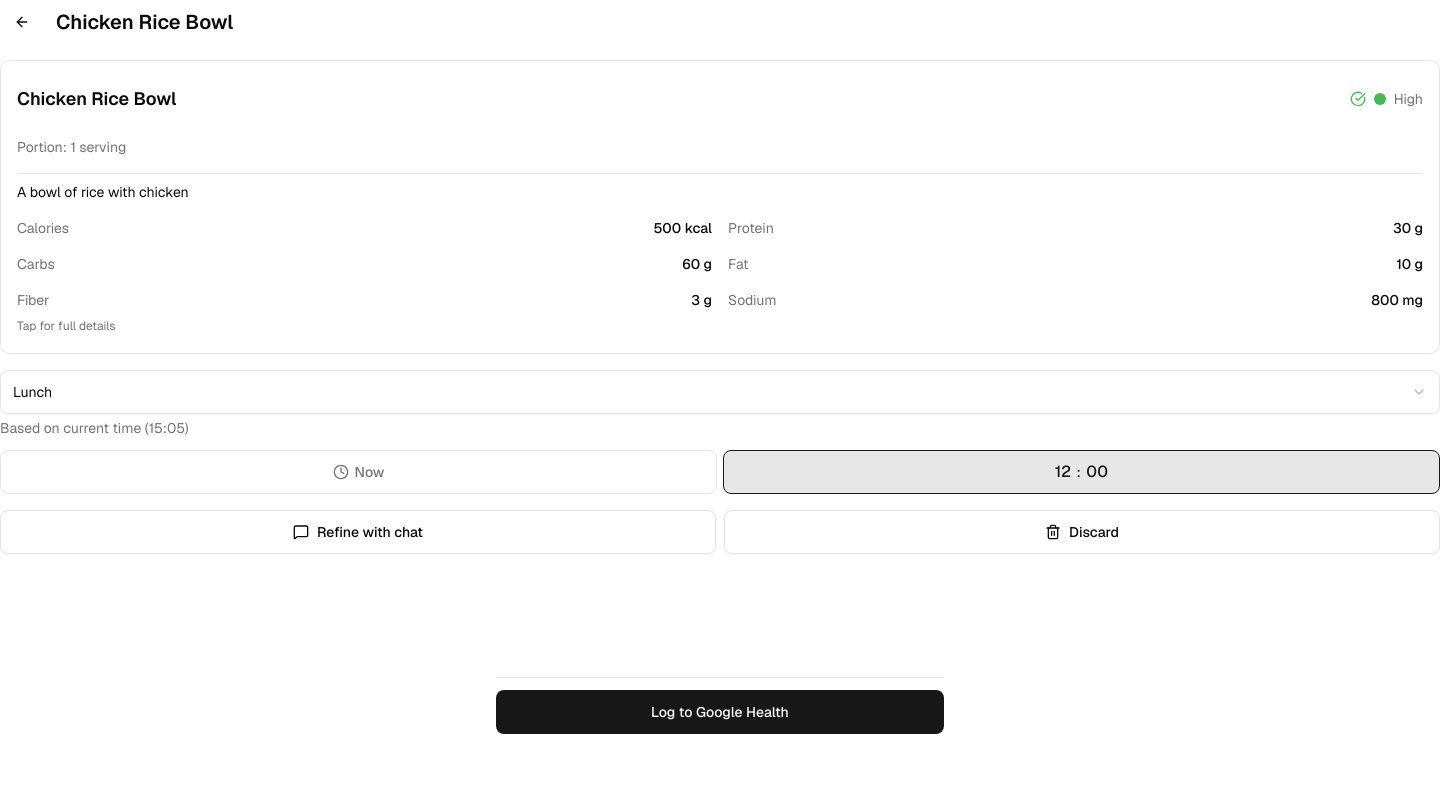
Test: SavedFoodDetail › Discard › clicking Discard shows confirmation dialog
This screenshot has width=1440, height=810.
Click the button "Discard". click: (1082, 532)
box: x1=724 y1=510 x2=1439 y2=554
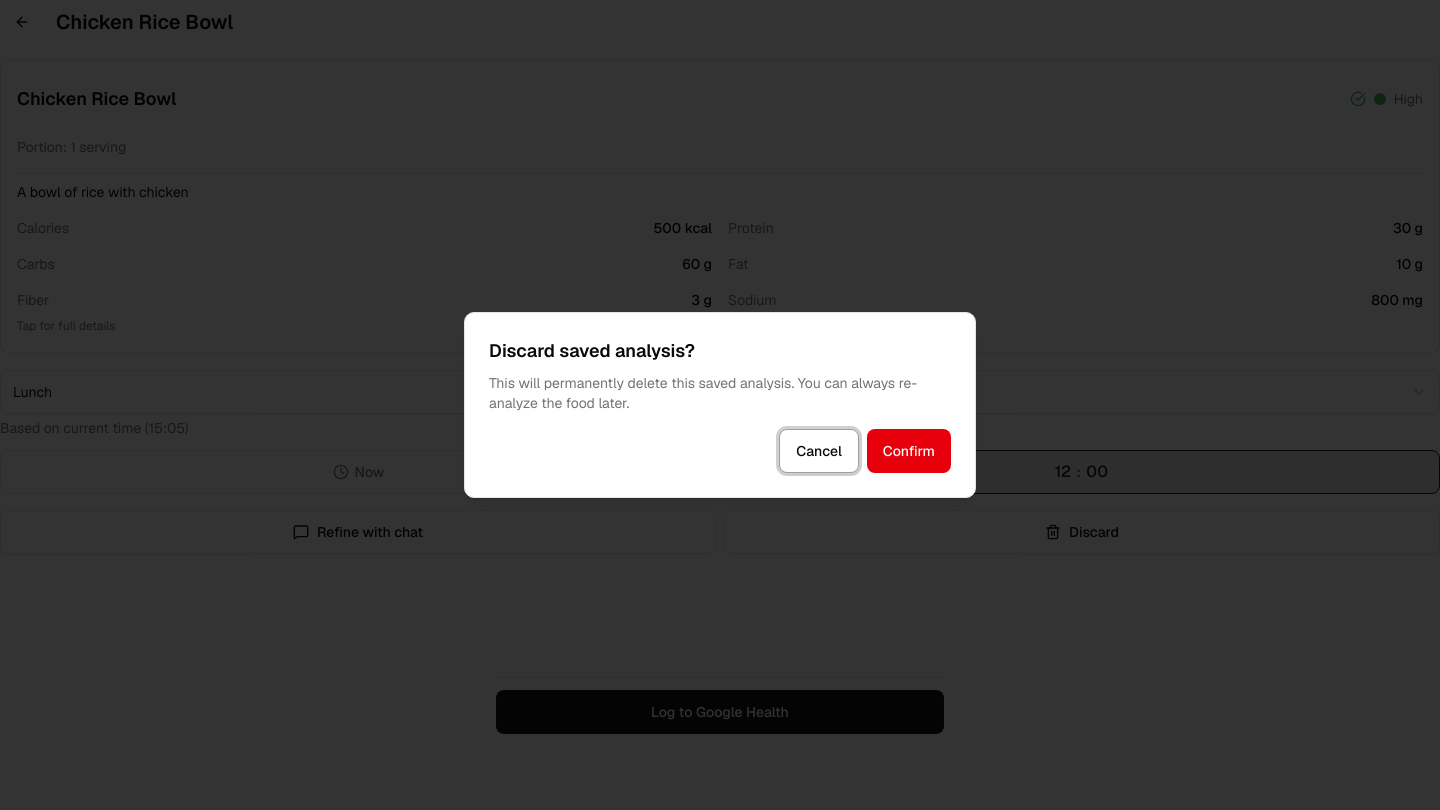
Expected: the dialog is shown, x1=464 y1=312 x2=976 y2=498
